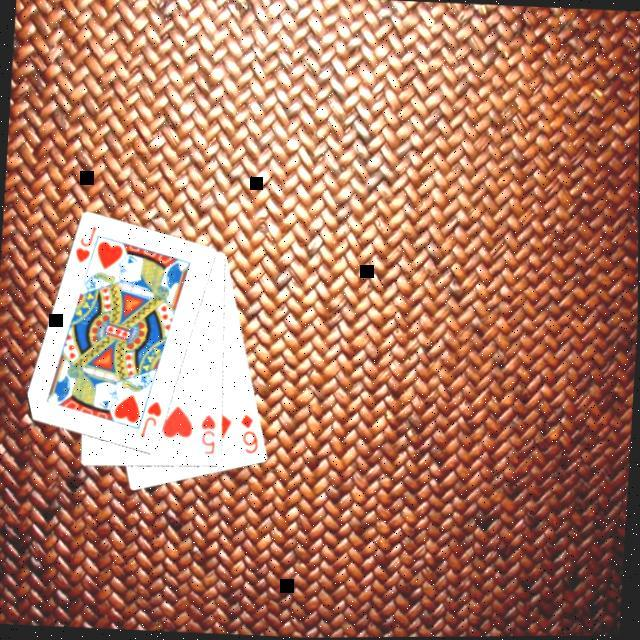5H: (196, 410, 219, 457)
6D: (235, 410, 263, 455)
JH: (136, 397, 164, 440), (71, 222, 99, 265)
